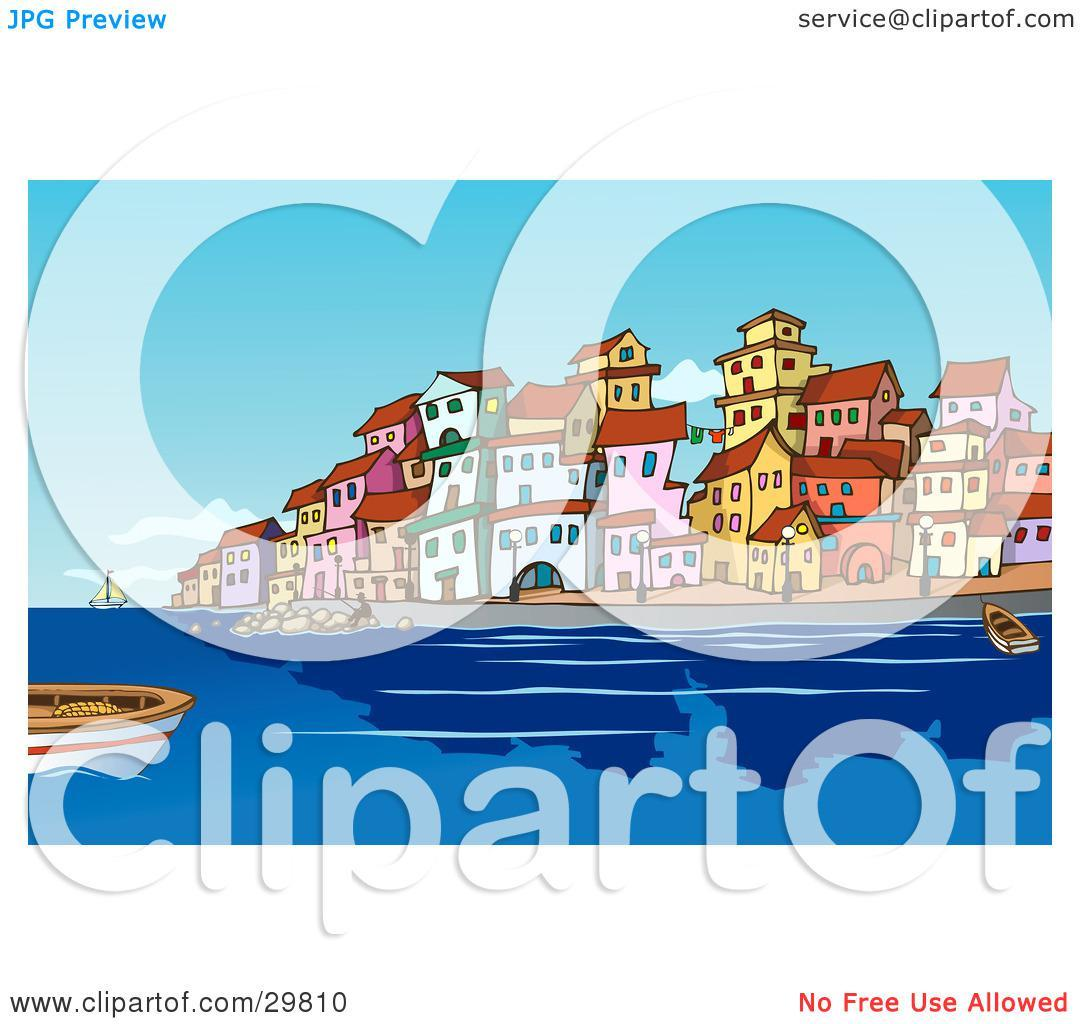boat: (965, 594, 1046, 660), (84, 572, 134, 619)
